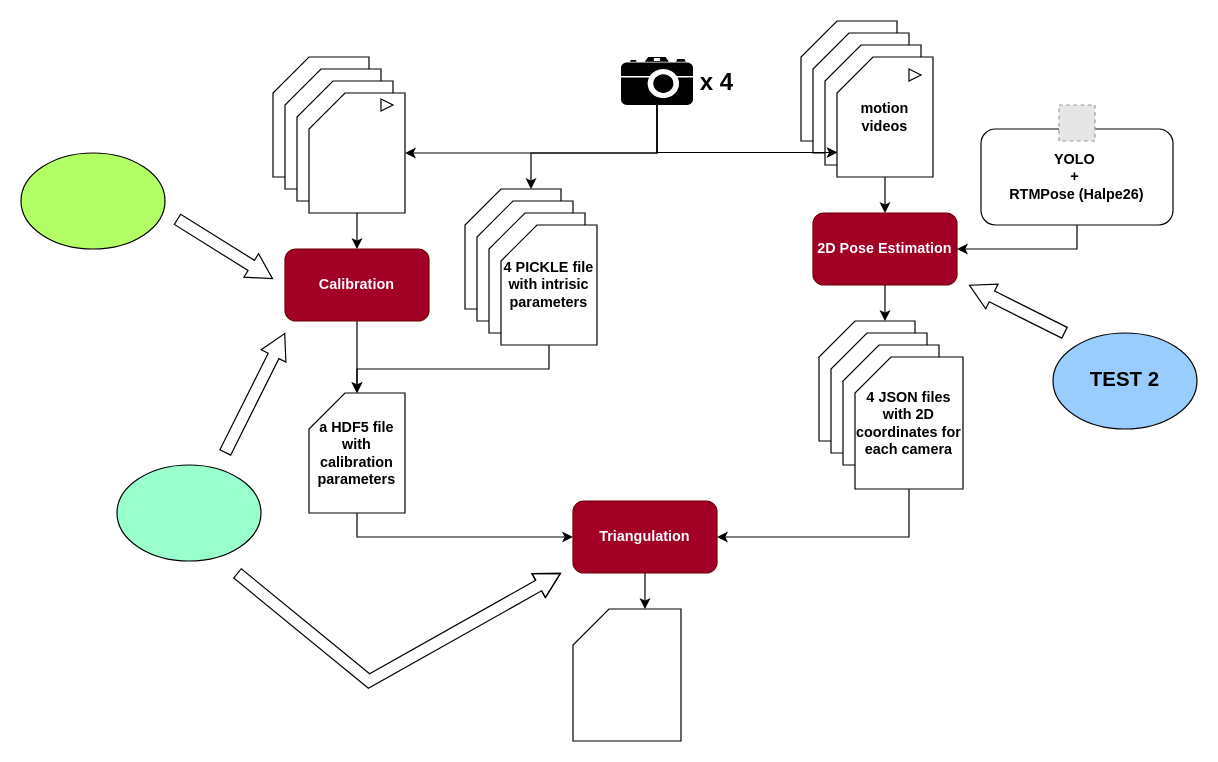
The diagram is 1218 pixels wide and 762 high, and some of its shapes have lost their labels. Grey dashed boxes stand in for pictures. Each missing label, with the centre of its shape:
"a CSV file with 3D coordinates" goes at point (626, 674).
"chessboard videos" goes at point (356, 152).
"TEST 0" goes at point (92, 200).
"TEST 1" goes at point (188, 512).
